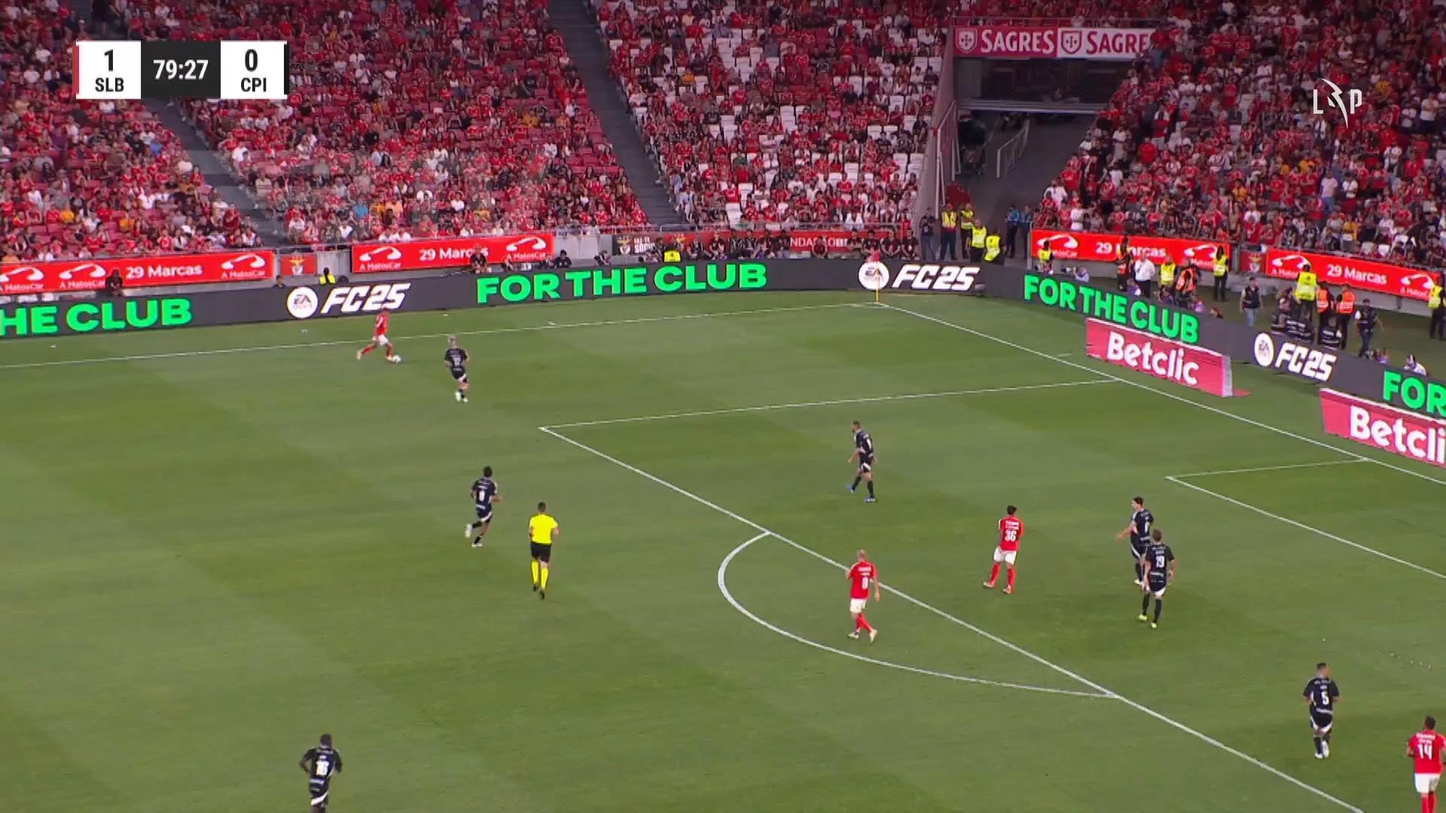ball: (391, 352, 403, 365)
player: (1136, 528, 1176, 629), (1301, 660, 1340, 759), (1405, 714, 1444, 811), (981, 504, 1023, 594), (1116, 495, 1154, 588), (299, 732, 342, 811), (844, 548, 880, 642), (463, 464, 503, 547), (846, 419, 877, 503), (355, 308, 401, 363), (442, 334, 470, 403)
referee: (526, 501, 560, 600)
